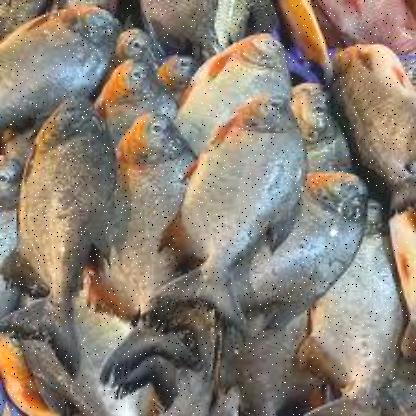ikan-pacu: (178, 88, 307, 294), (18, 96, 119, 324), (98, 115, 192, 305), (239, 175, 366, 313), (180, 35, 292, 149)
